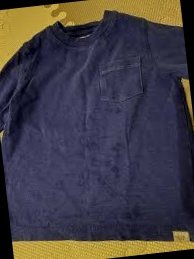oil: (103, 156, 122, 179), (108, 104, 127, 117)
